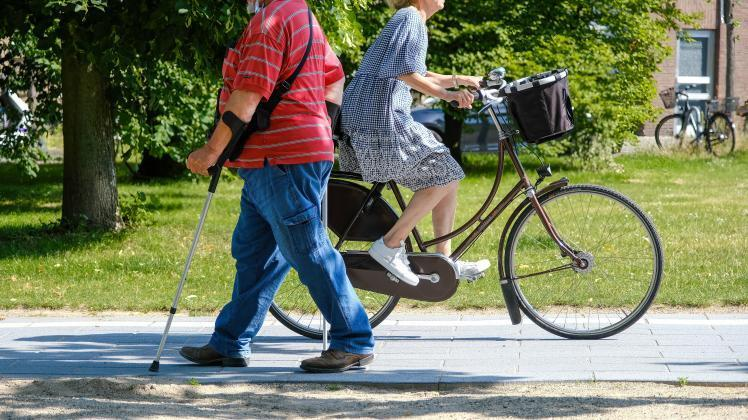crutches: (145, 0, 368, 383)
